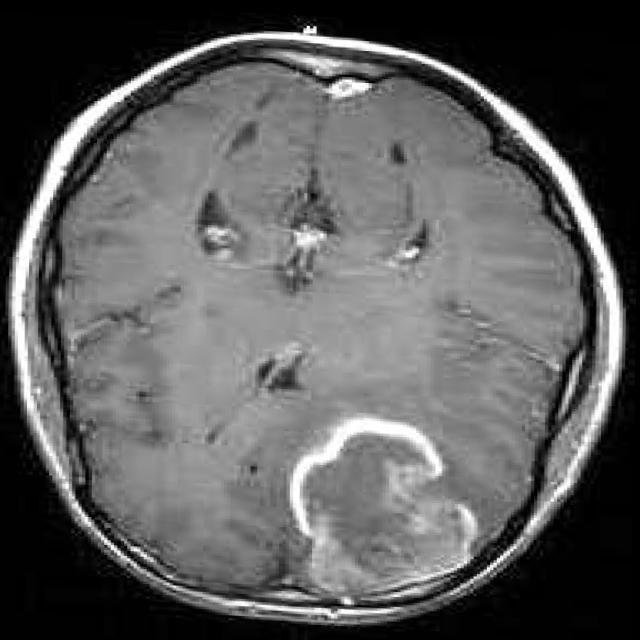Tumor: (284, 413, 476, 584)
